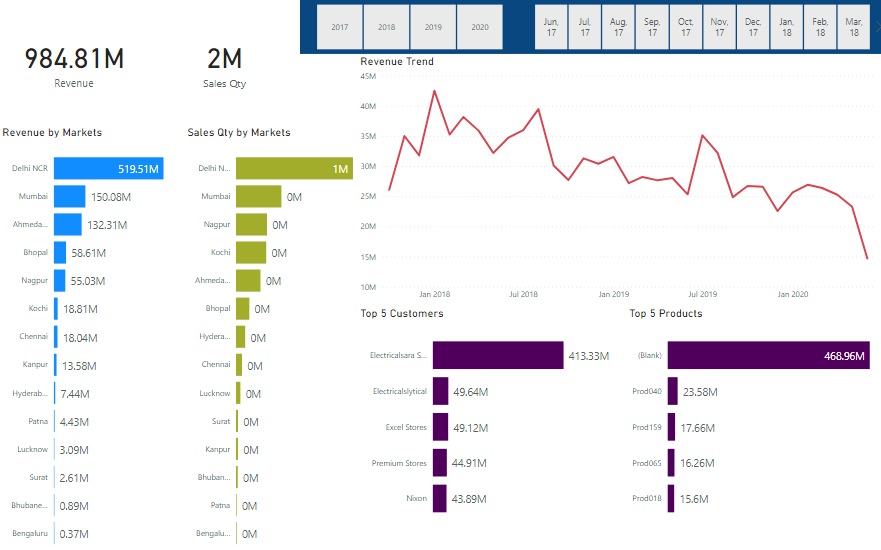

Layout of this report page (visuals, bound fields, positions):
{"tool":"powerbi","page":{"name":"Page 1","canvas":[1350,850],"ordinal":0},"visuals":[{"type":"card","fields":{"Values":["BaseMeasure (2).Revenue"]},"box":[0,0,228.5,189.8],"z":0},{"type":"card","fields":{"Values":["BaseMeasure (2).Sales Qty"]},"box":[228.8,0,228.8,190.4],"z":1000},{"type":"barChart","title":"Revenue by Markets","fields":{"Y":["BaseMeasure (2).Revenue"],"Category":["sales markets.markets_name"]},"box":[0,190.4,280.6,659.6],"z":2000},{"type":"barChart","title":"Sales Qty by Markets","fields":{"Y":["BaseMeasure (2).Sales Qty"],"Category":["sales markets.markets_name"]},"box":[280.6,190.4,263.9,659.6],"z":3000},{"type":"slicer","fields":{"Values":["sales date.year"]},"box":[457.6,0,332.3,81.8],"z":4000},{"type":"slicer","fields":{"Values":["sales date.cy_date"]},"box":[789.9,0,559.4,81.8],"z":5000},{"type":"barChart","title":"Top 5 Customers","fields":{"Y":["BaseMeasure (2).Revenue"],"Category":["sales customers.custmer_name"]},"box":[544.4,465.9,409.1,342.3],"z":5001},{"type":"barChart","title":"Top 5 Products","fields":{"Y":["BaseMeasure (2).Revenue"],"Category":["sales products.product_code"]},"box":[953.5,465.9,395.8,342.3],"z":5002},{"type":"lineChart","title":"Revenue Trend","fields":{"Y":["BaseMeasure (2).Revenue"],"Category":["sales date.cy_date"]},"box":[544.4,81.8,804.9,384.1],"z":5003}]}

Visuals, with their boxes in screenshot pixels (x1, y1, x2, y2), scaled from the page's 1350x850 canvas onto the 881x550 screenshot:
card - BaseMeasure (2).Revenue: detection(0, 0, 149, 123)
card - BaseMeasure (2).Sales Qty: detection(149, 0, 299, 123)
"Revenue by Markets" barChart: detection(0, 123, 183, 549)
"Sales Qty by Markets" barChart: detection(183, 123, 355, 549)
slicer - sales date.year: detection(299, 0, 515, 53)
slicer - sales date.cy_date: detection(515, 0, 880, 53)
"Top 5 Customers" barChart: detection(355, 301, 622, 523)
"Top 5 Products" barChart: detection(622, 301, 880, 523)
"Revenue Trend" lineChart: detection(355, 53, 880, 301)
